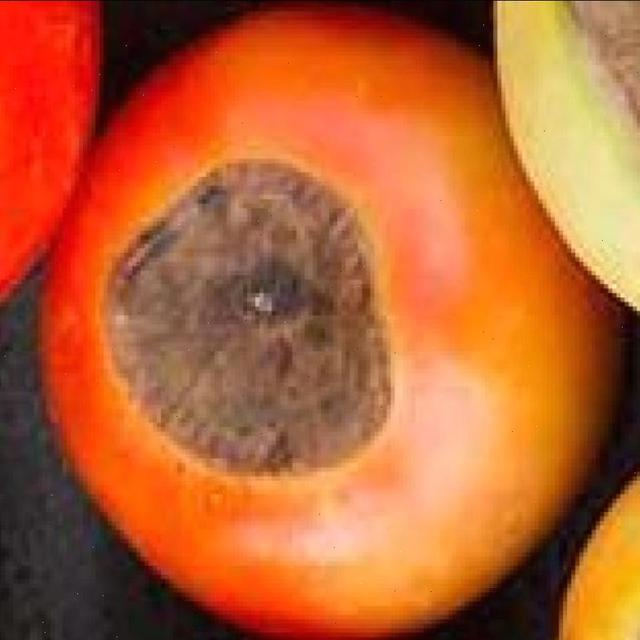Blossom End Rot Fruit: (57, 47, 398, 215)
